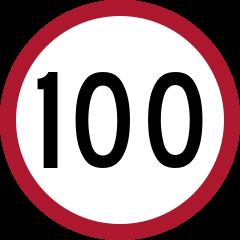Speed Limit -100-: (25, 64, 208, 181)
